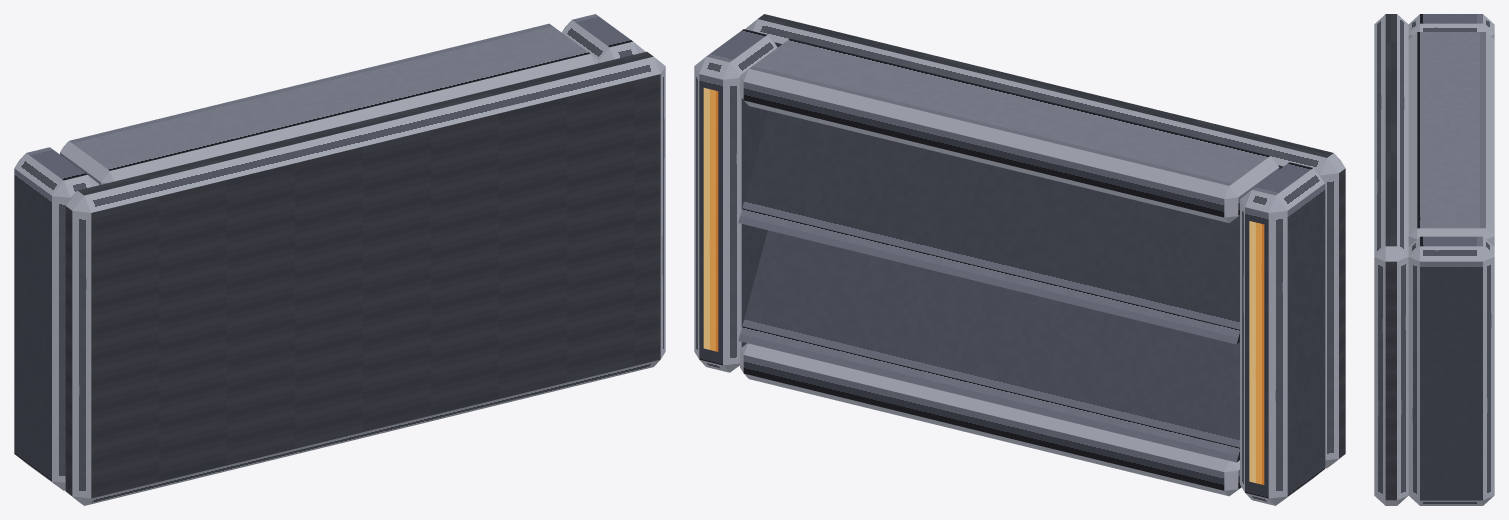
The model's file is marlit_armor2.glb.
3 views of the same model, side by side, from view 1: azimuth 30°, elevation 25°; view 2: azimuth 150°, elevation 25°; view 3: azimuth 270°, elevation 25° (orthographic). The views are drawn at different scales.
Visible parts, largest first — view 1: marlit_armor2_body; view 2: marlit_armor2_body; view 3: marlit_armor2_body.
Boxes of the visible parts, box(x1,y1,x2,y2) form: marlit_armor2_body: box(14, 14, 665, 505); marlit_armor2_body: box(694, 14, 1345, 505); marlit_armor2_body: box(1374, 14, 1494, 505).
Size of the model in its own units: 2 by 1 by 0.421.
Materials: 1 (1 with a texture image).
